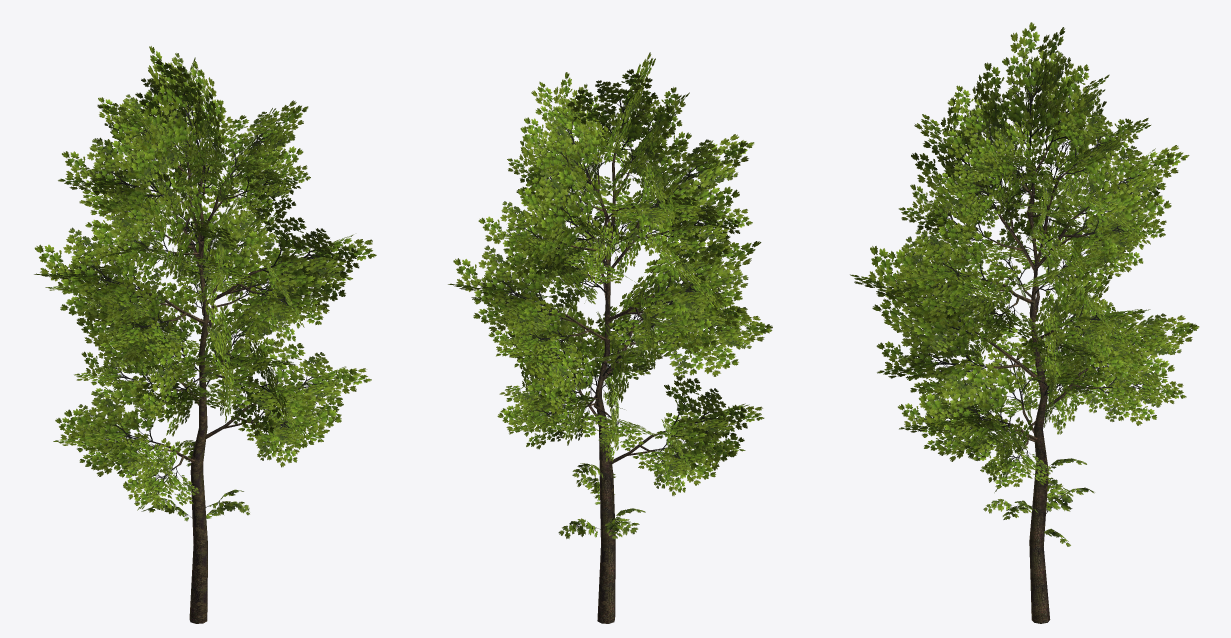
The model's file is GS_NATURE_SMALLTREE_02.glb.
3 views of the same model, side by side, from view 1: azimuth 30°, elevation 25°; view 2: azimuth 150°, elevation 25°; view 3: azimuth 270°, elevation 25° (orthographic).
Parts seen in each view (by area): view 1: Mesh; view 2: Mesh; view 3: Mesh.
Boxes of the visible parts, box(x1,y1,x2,y2) form: Mesh: box(34, 46, 376, 623); Mesh: box(448, 52, 772, 623); Mesh: box(850, 22, 1199, 623).
Size of the model in its own units: 13.45 by 23.48 by 14.16.
3 materials, 3 textured.
